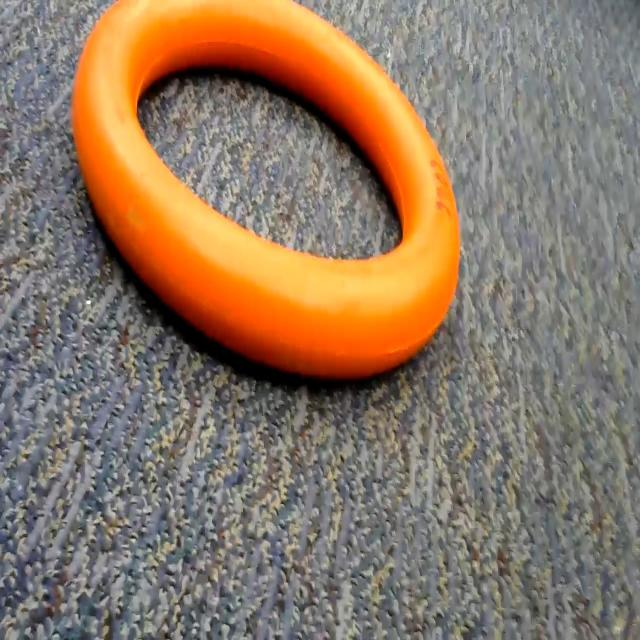note: (58, 0, 490, 401)
